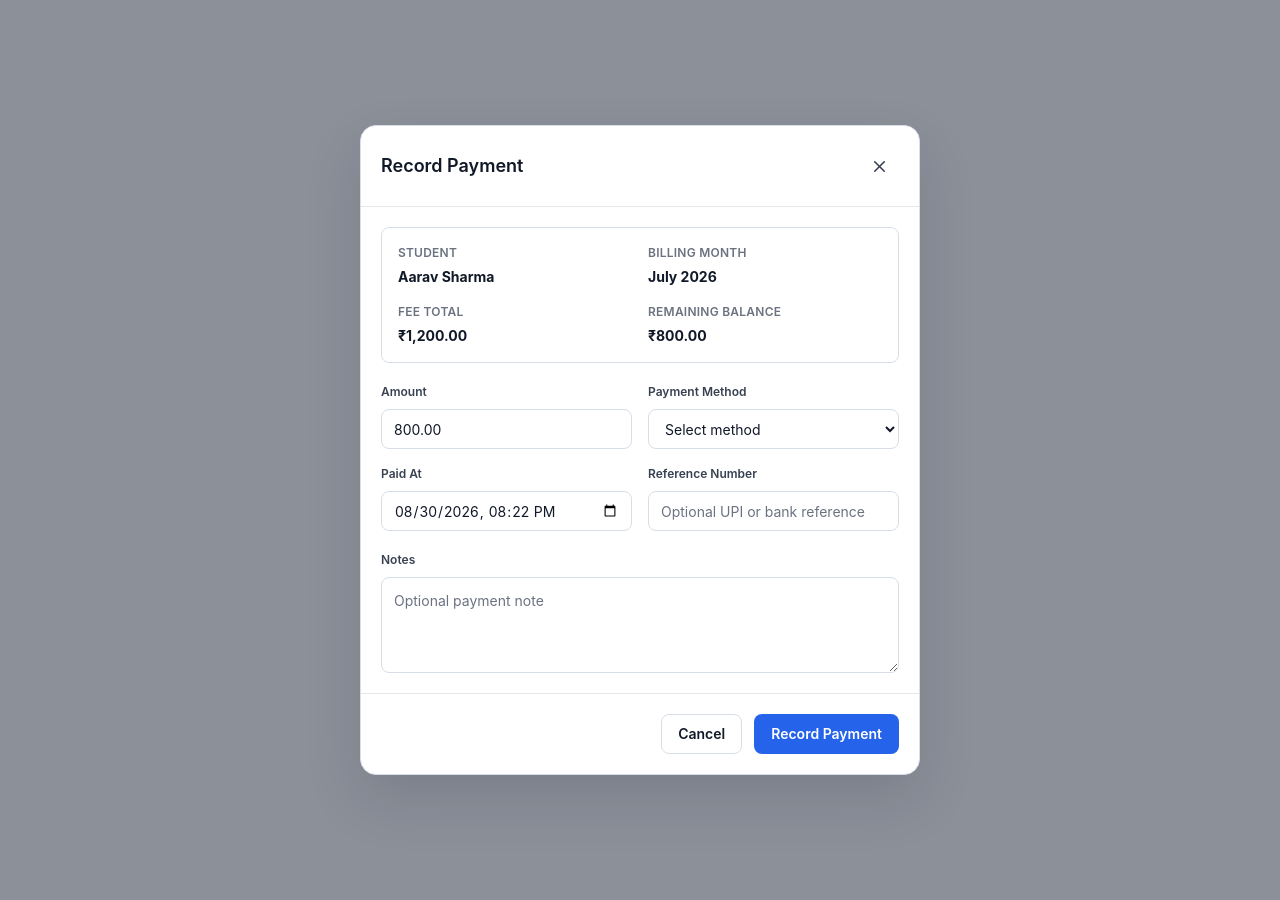
Test: RecordPaymentDialog › shows partial-payment guidance and rejects overpayment
Replace the text in the number field labelled "Amount" with "300": (506, 429) [381,409,632,449]
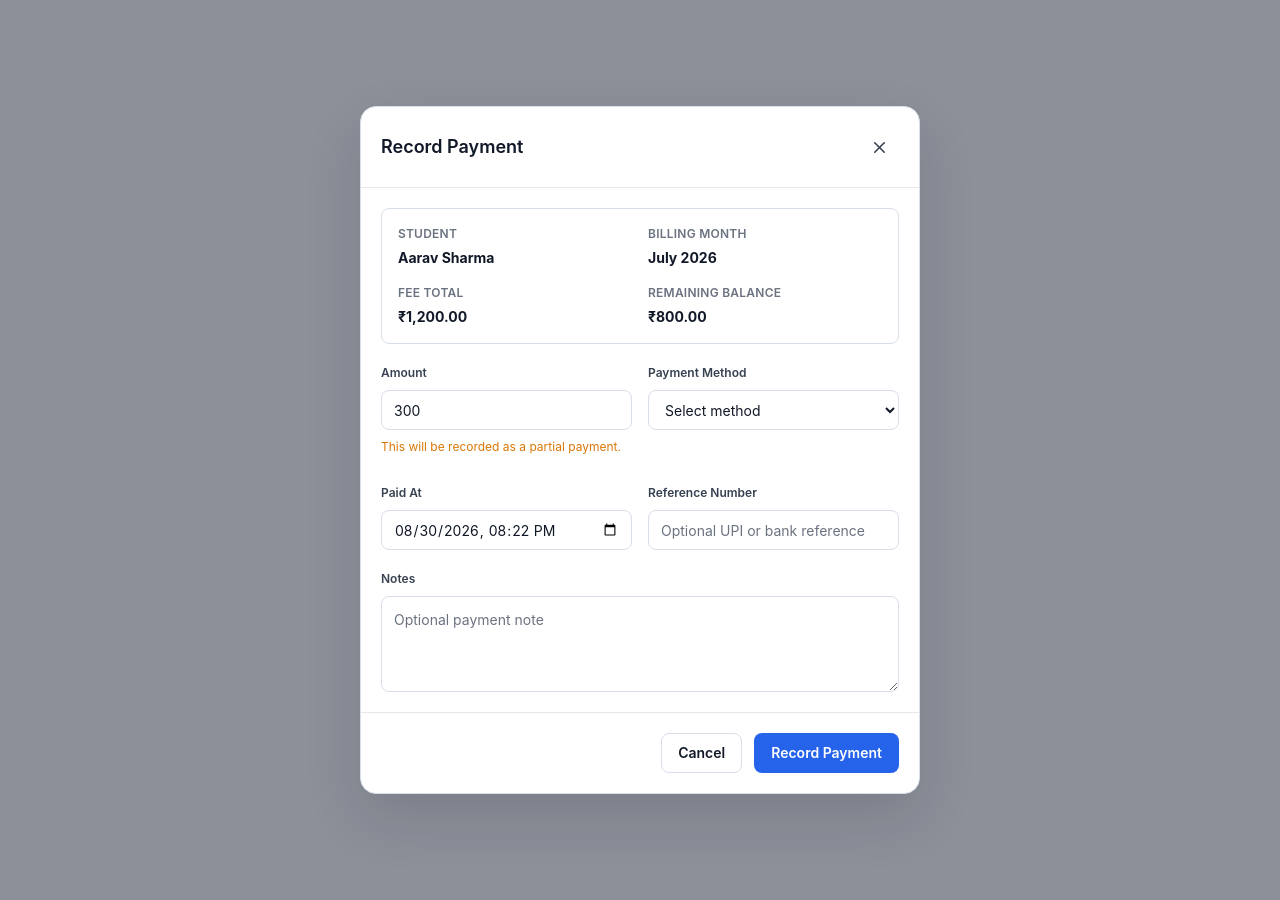
Check: the text "partial payment" is shown, box [381,439,621,454]
Replace the text in the number field labelled "Amount" with "900": (506, 410) [381,390,632,430]
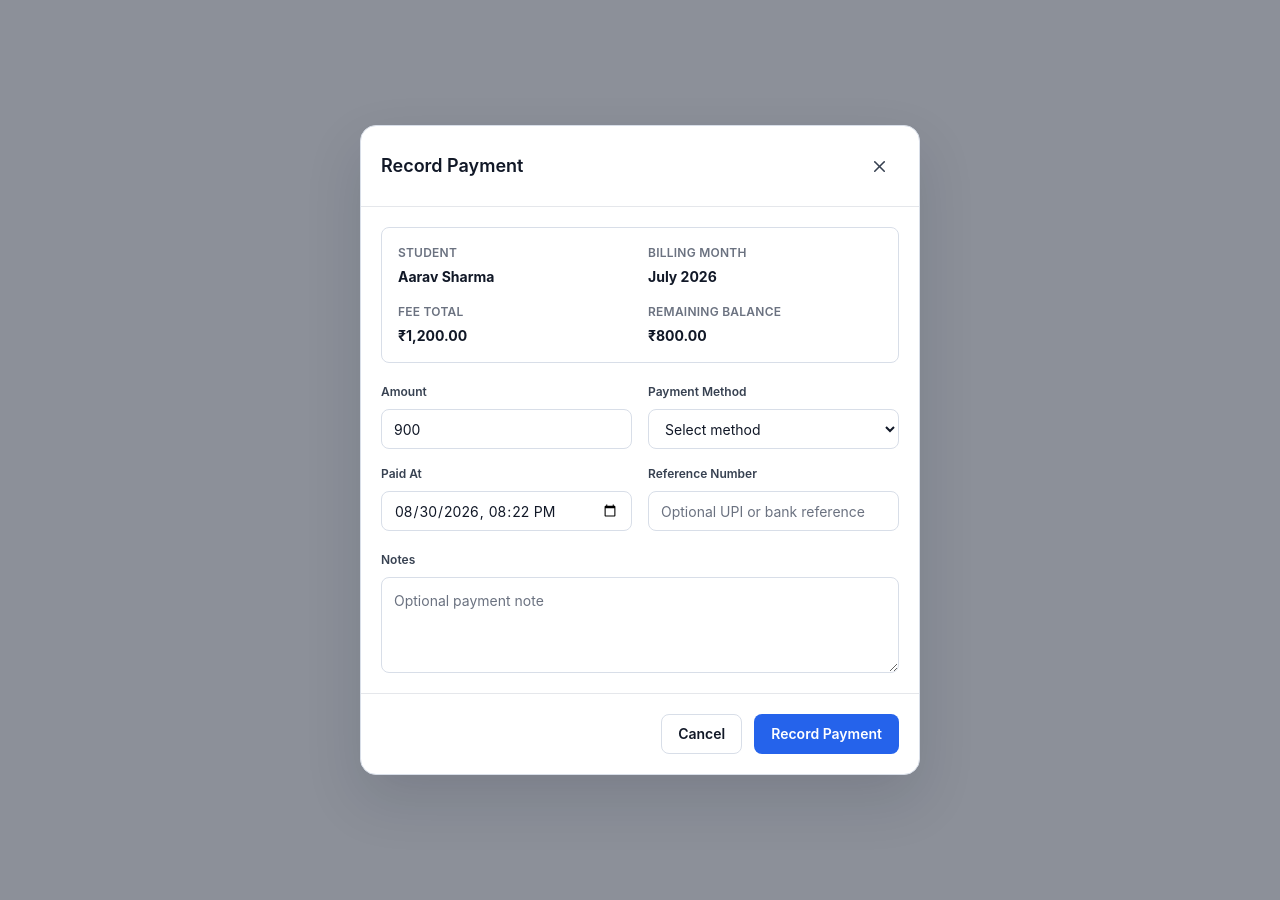
Select "Cash" in the dropdown labelled "Payment Method": (774, 429) [648,409,899,449]
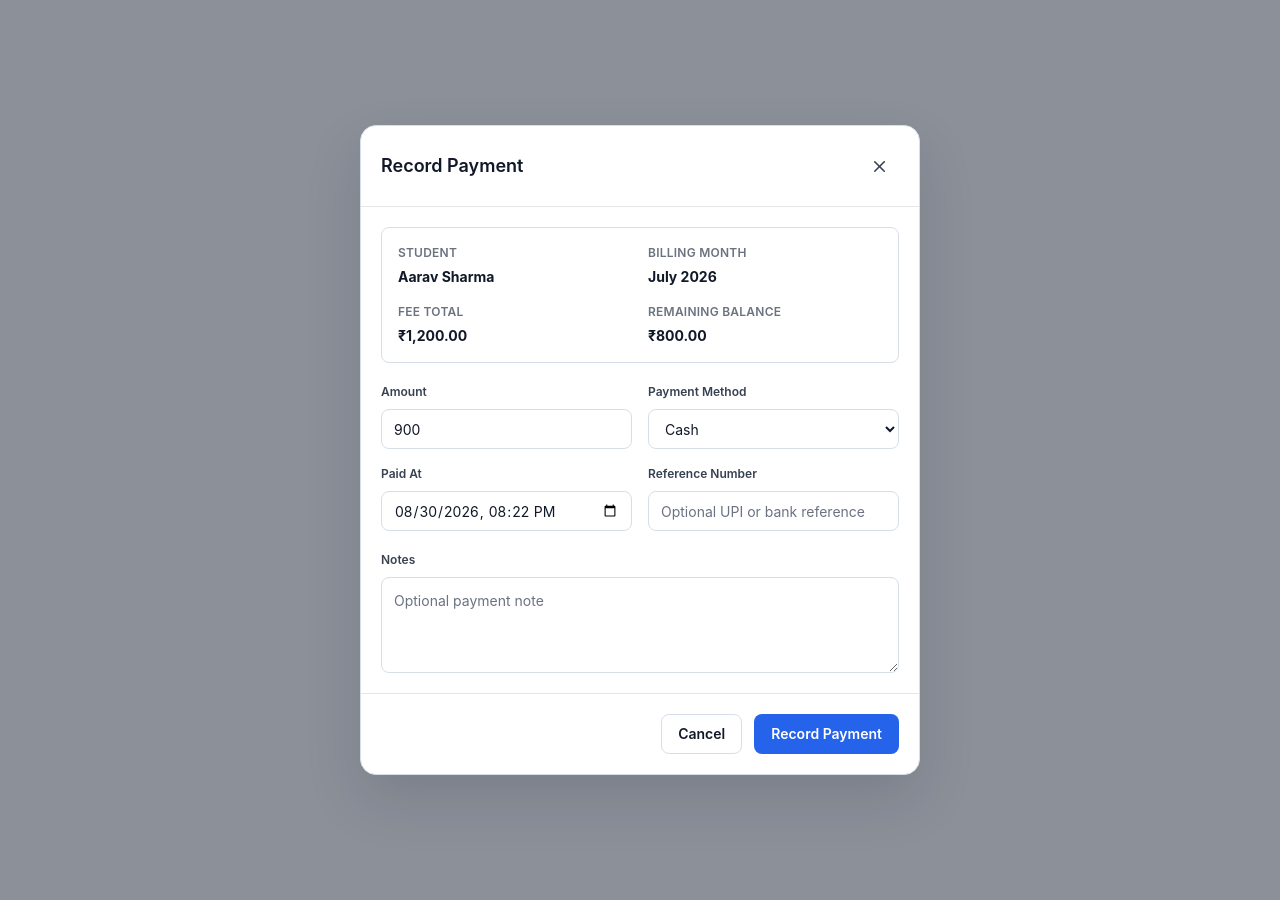
Click the button with class "btn--primary": (827, 734) [754,714,899,754]
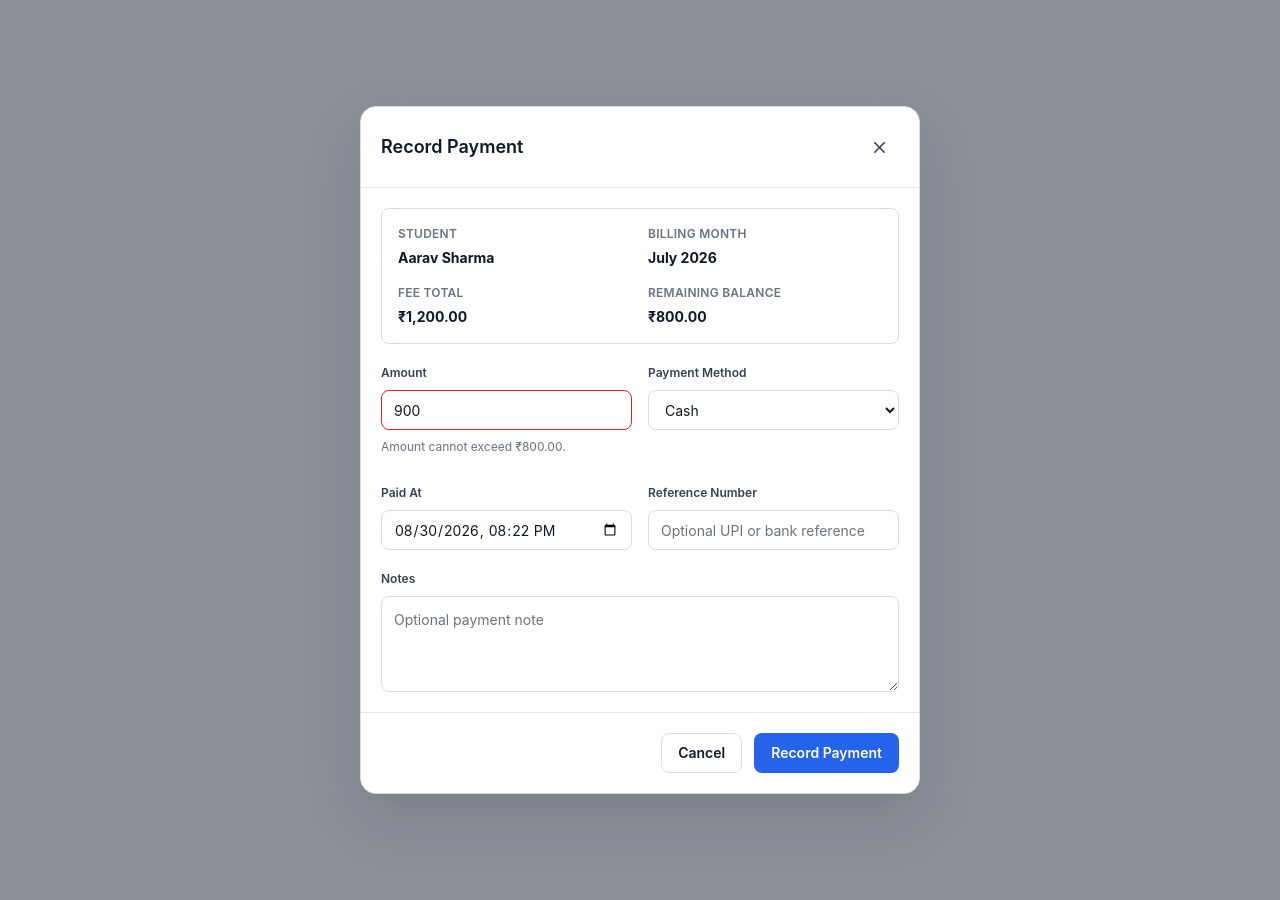
Check: the text "Amount cannot exceed" is shown, box [381,439,566,454]
